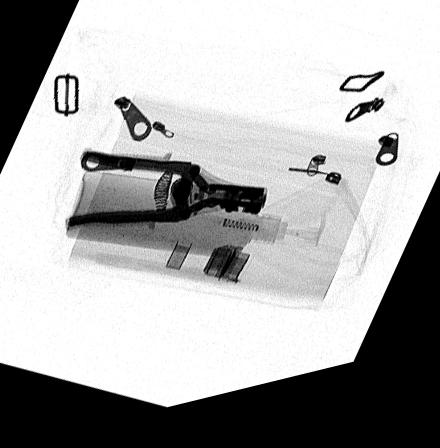Pliers: (64, 154, 266, 231)
